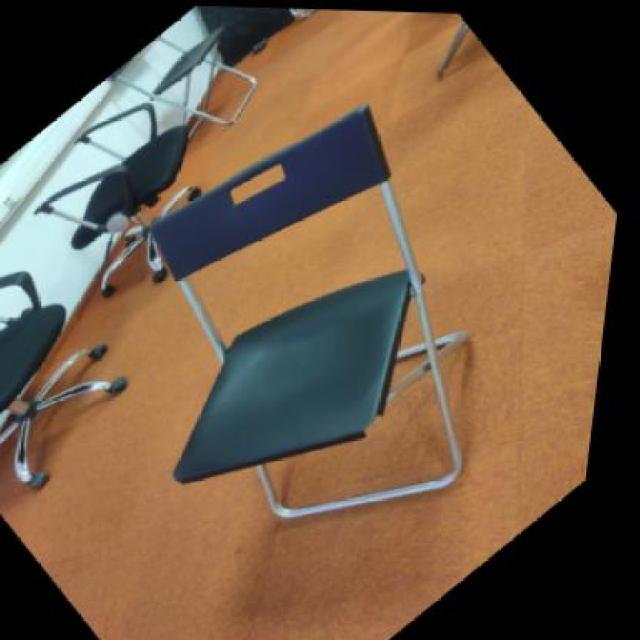chair: (15, 47, 631, 625), (0, 224, 174, 522), (96, 2, 290, 173)
